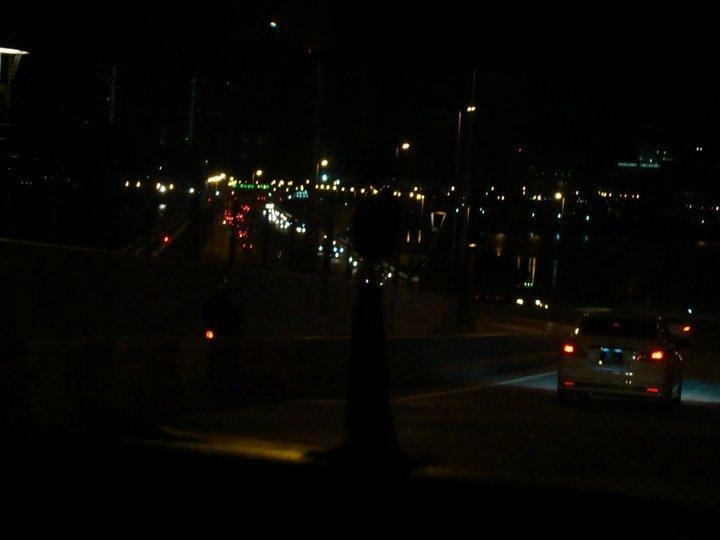car: (550, 306, 695, 416)
